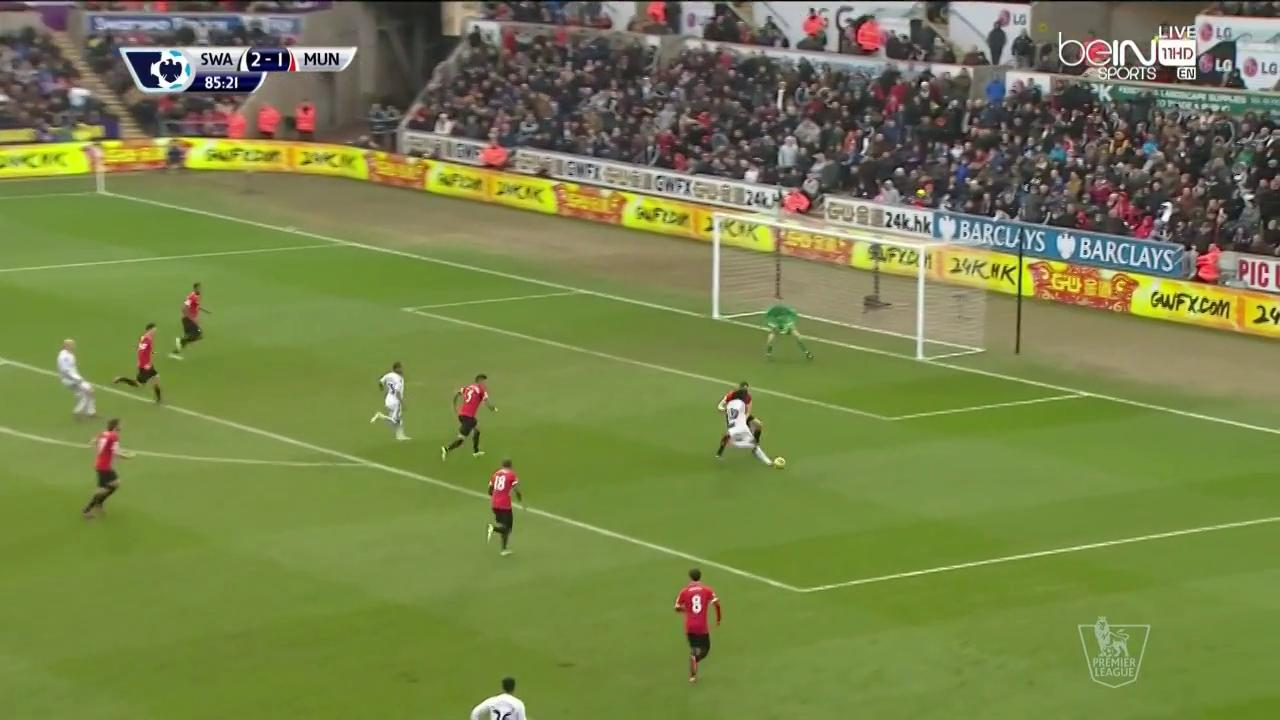football: (774, 456, 787, 469)
